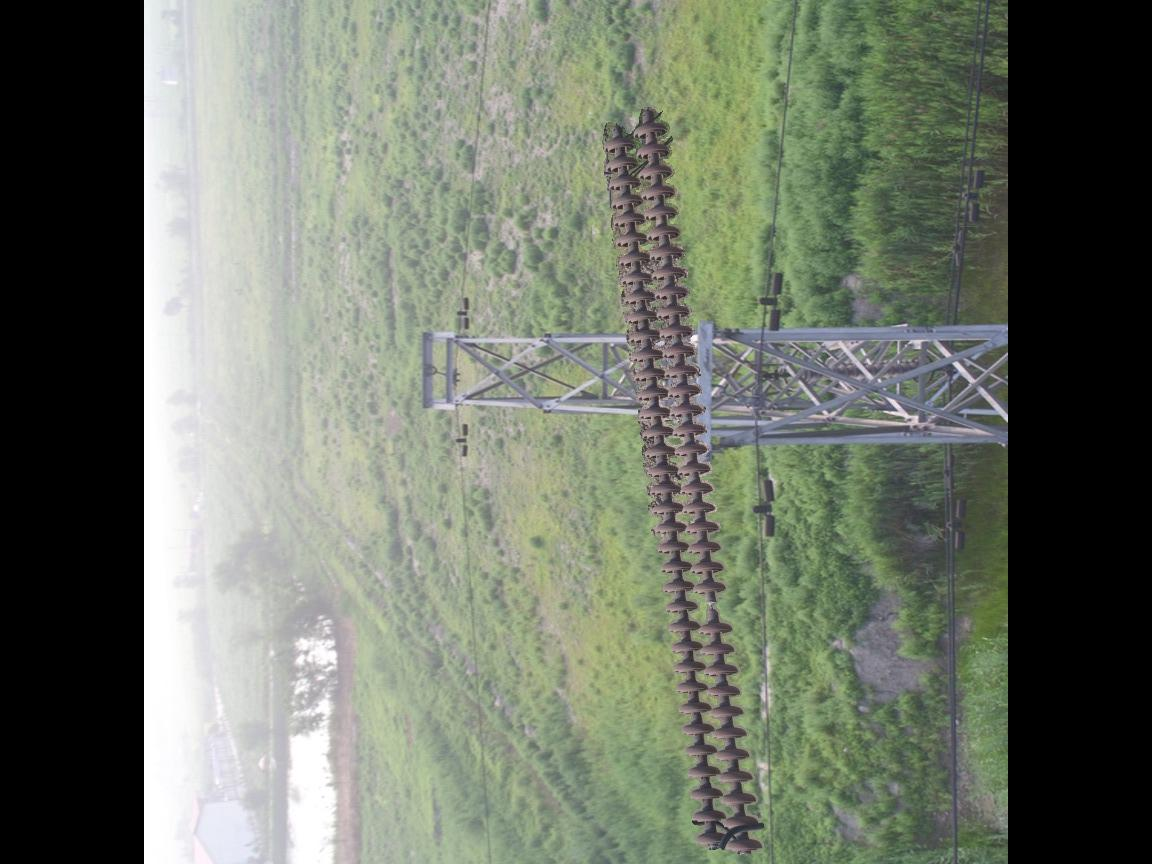insulator: (599, 115, 767, 857)
insulator_stringdrop: (691, 575, 735, 641)
